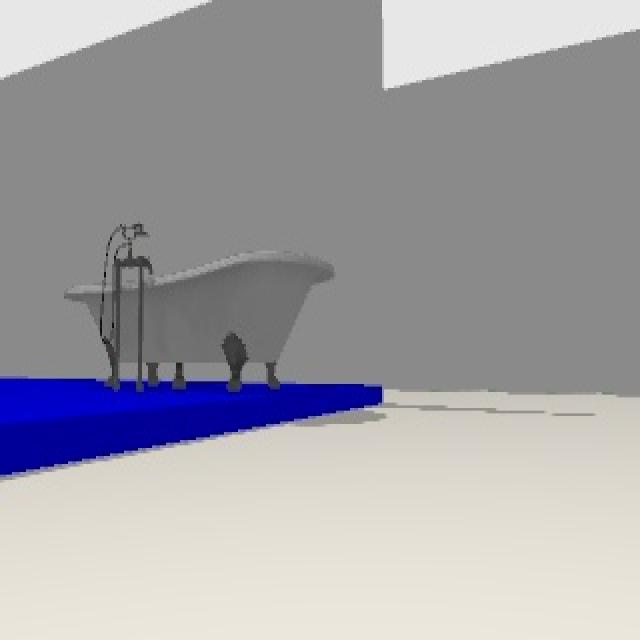bathtub: (62, 214, 335, 391)
